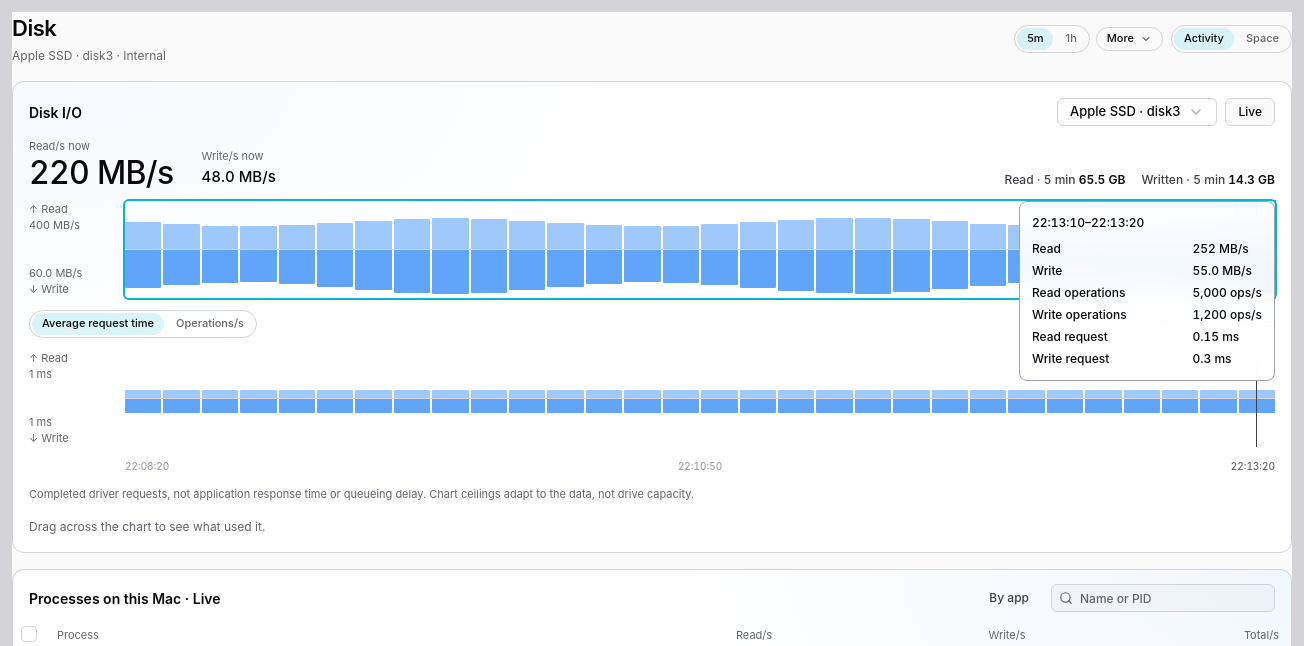
Test: Disk and Memory pages over a range (D-099) › reports a selected totals failure while leaving the chart and brush usable
Step 1. Press Enter
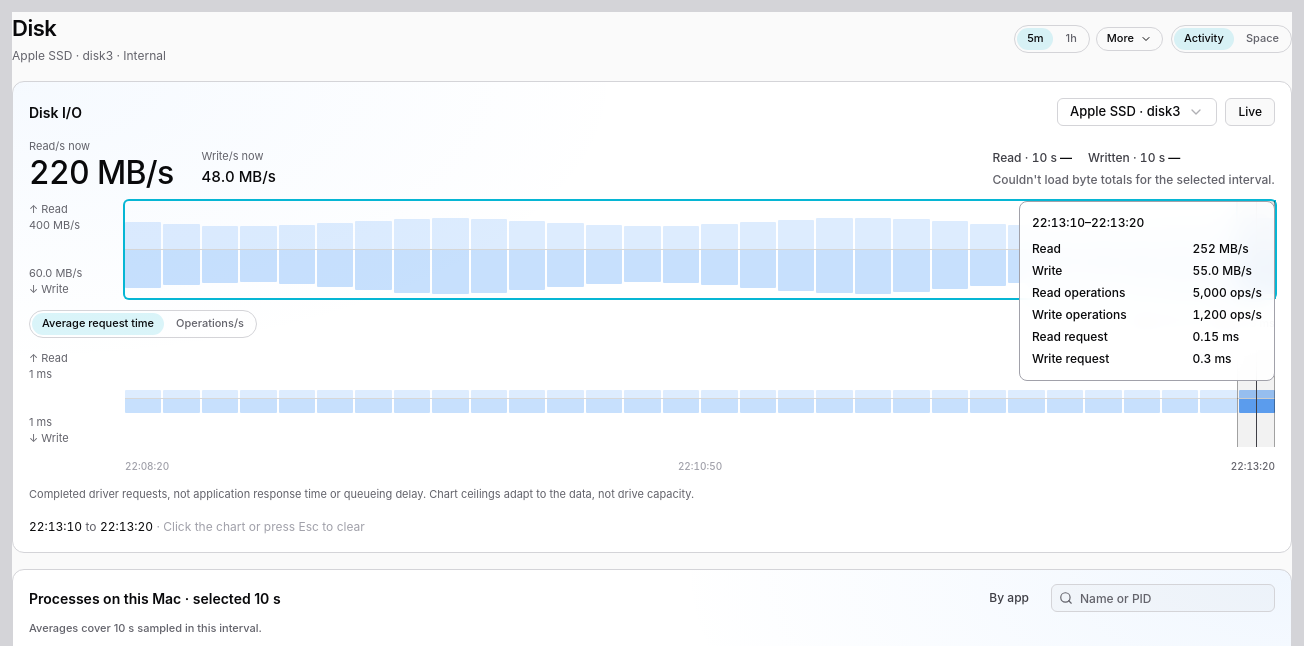
Expected: the picture named "Disk I/O: read above" is shown, x1=125 y1=200 x2=1275 y2=298
Result: the message reads "Couldn't load byte totals for the selected interval." at x1=992 y1=172 x2=1275 y2=186
Step 2. Click the button "Live" → coordinates (1250, 112), box x1=1226 y1=98 x2=1275 y2=126
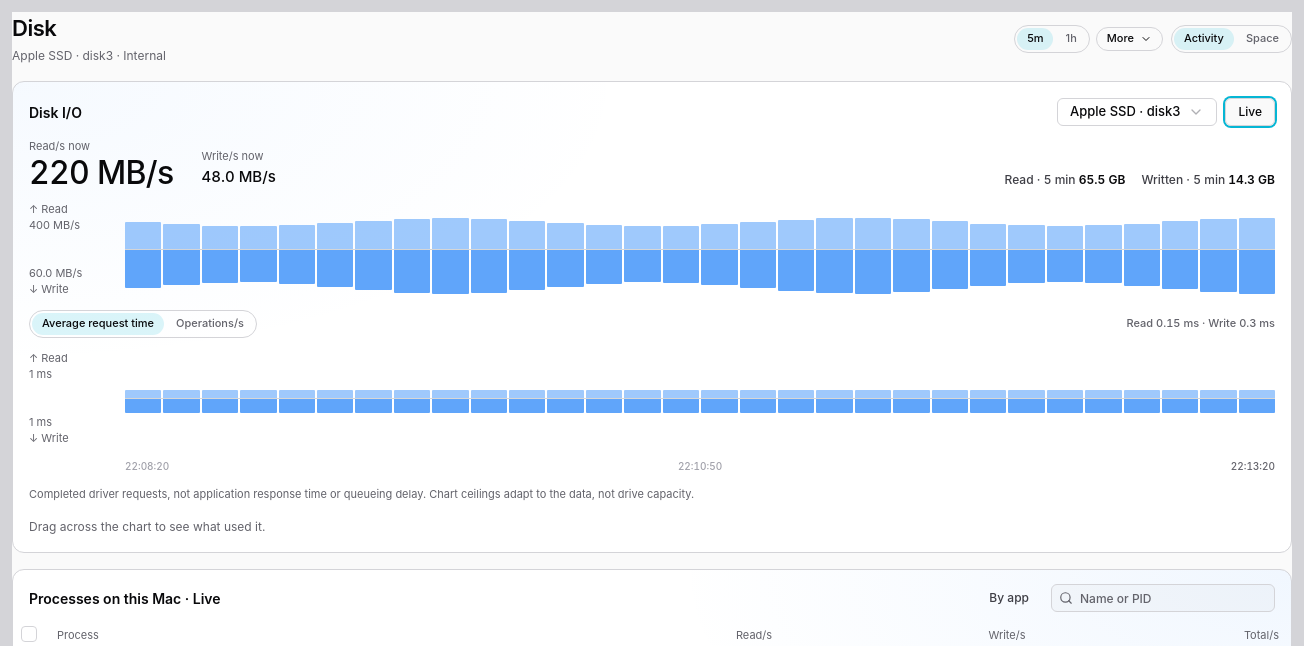
Result: the text "Couldn't load byte totals for the selected interval." is gone
